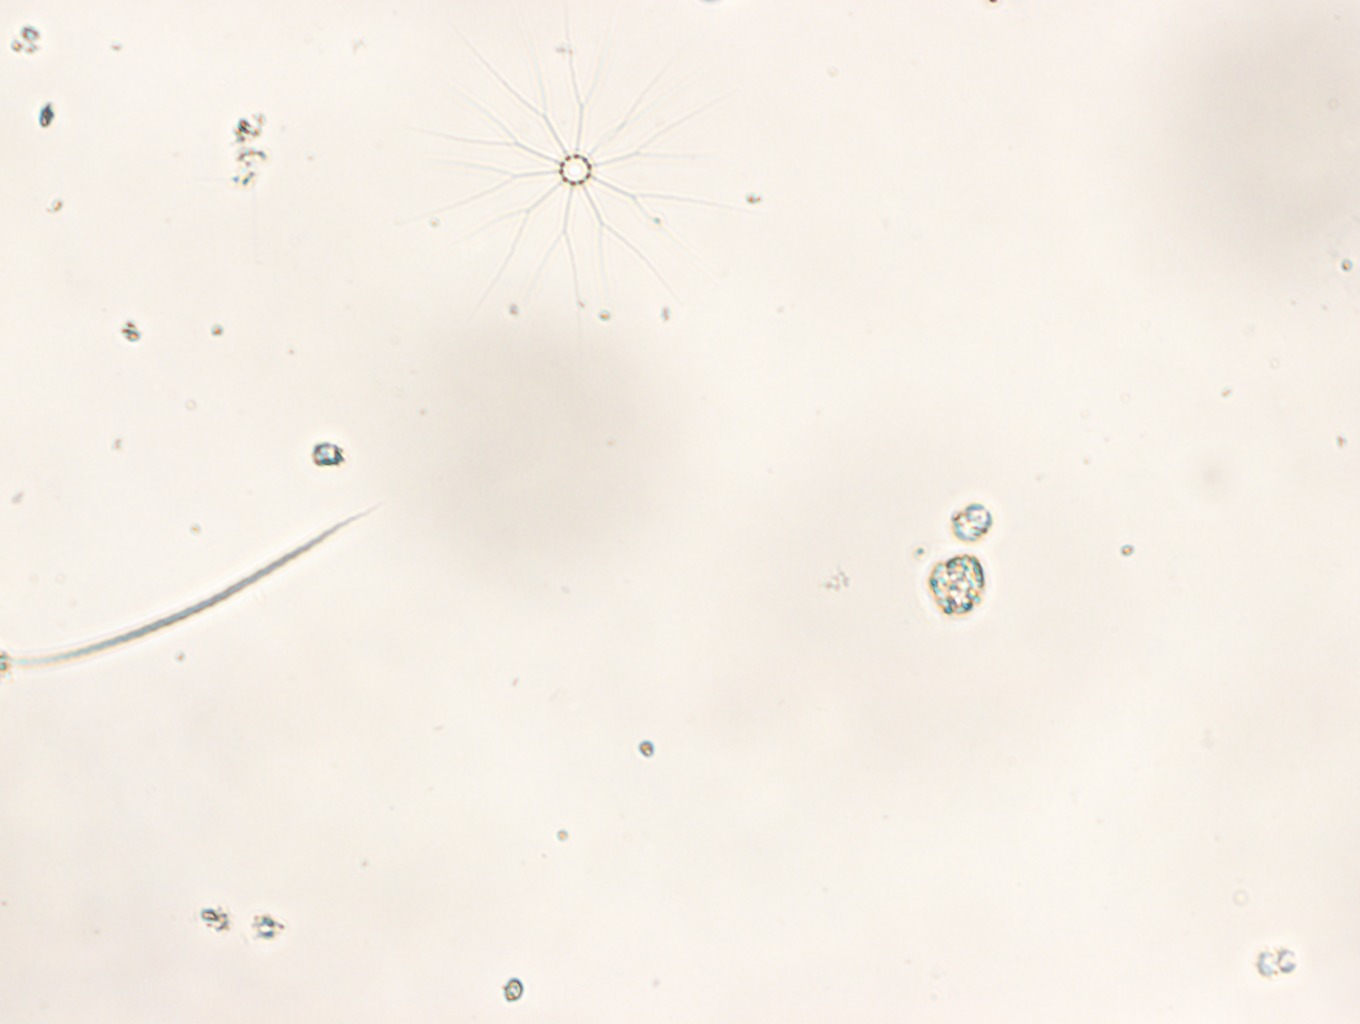bacteriastrum: (414, 10, 741, 326)
